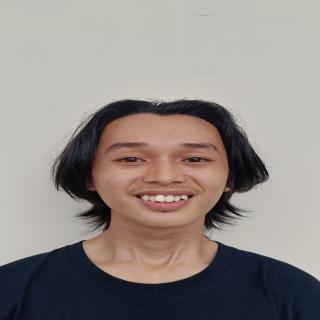Senang: (91, 108, 235, 232)
